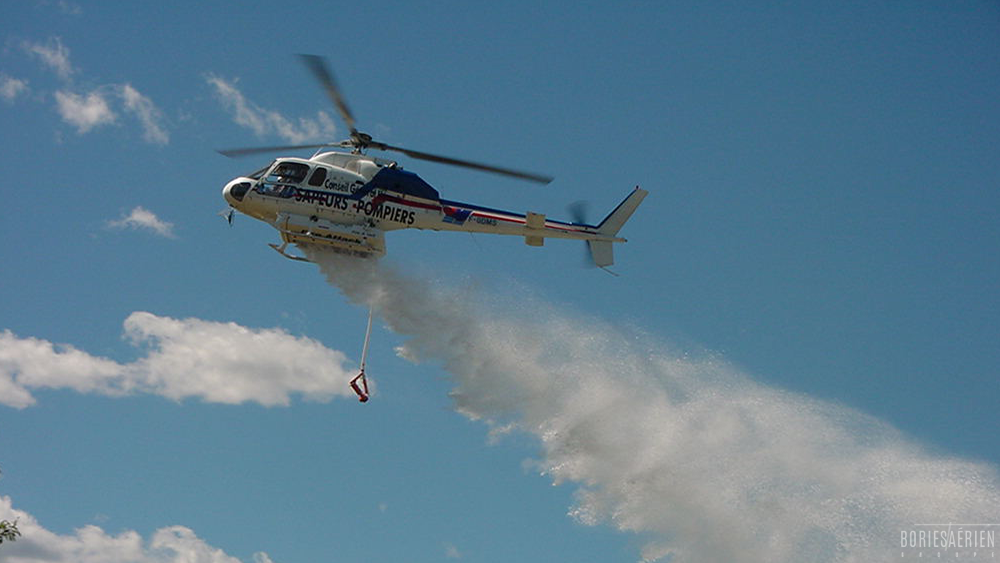Aeronef_de_service: (204, 45, 668, 412)
